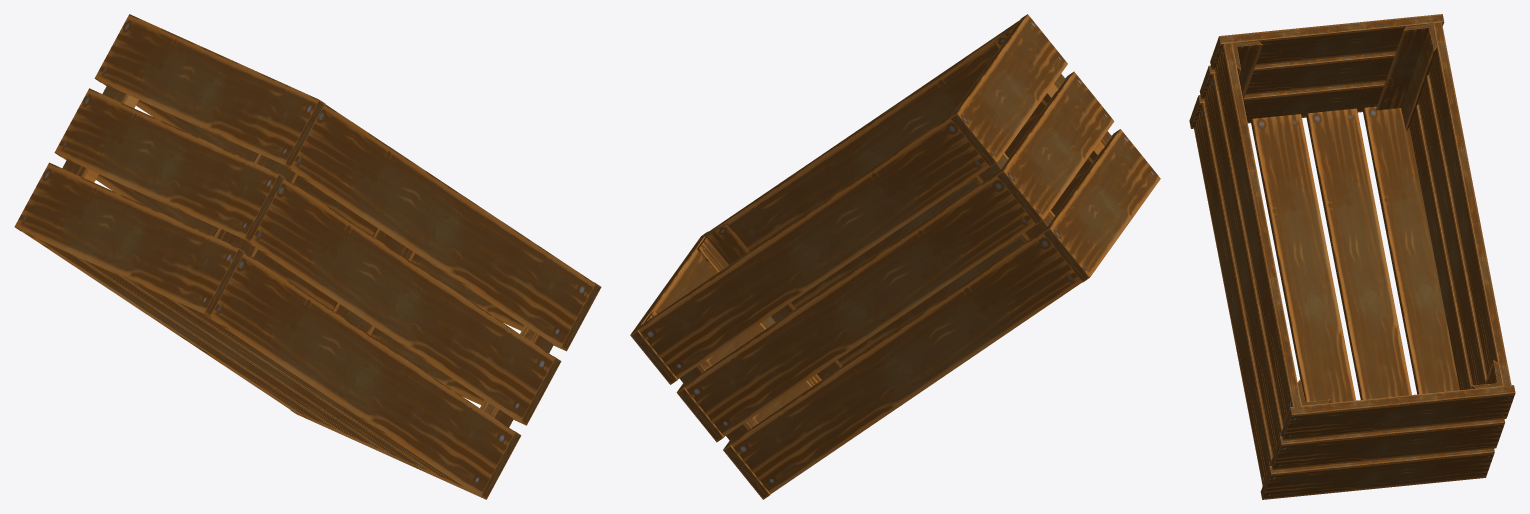
3 views of the same model, side by side, from view 1: azimuth 30°, elevation 25°; view 2: azimuth 150°, elevation 25°; view 3: azimuth 270°, elevation 25° (orthographic). The views are drawn at different scales.
Visible parts, largest first — view 1: Cube.1388; view 2: Cube.1388; view 3: Cube.1388.
Boxes of the visible parts, left/top/right/bottom form: Cube.1388: left=14, top=14, right=601, bottom=499; Cube.1388: left=630, top=14, right=1160, bottom=499; Cube.1388: left=1189, top=14, right=1515, bottom=499.
Bounding box in the file's own units: 209 × 181 × 139.
1 material, 1 textured.
